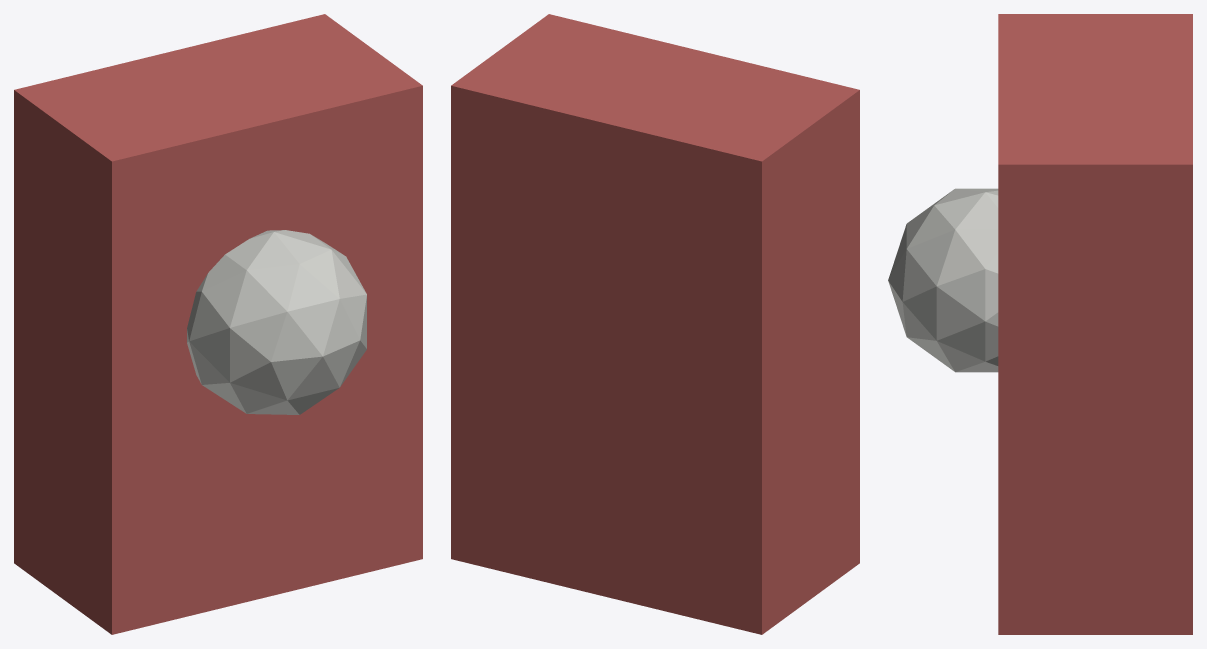
The model's file is SAF-003.glb.
3 views of the same model, side by side, from view 1: azimuth 30°, elevation 25°; view 2: azimuth 150°, elevation 25°; view 3: azimuth 270°, elevation 25° (orthographic).
Visible parts, largest first — view 1: 000_Alarm_case, 001_Alarm_switch; view 2: 000_Alarm_case; view 3: 000_Alarm_case, 001_Alarm_switch.
Boxes of the visible parts, x1=… form: 000_Alarm_case: x1=14, y1=14, x2=422, y2=634; 001_Alarm_switch: x1=187, y1=230, x2=366, y2=414; 000_Alarm_case: x1=451, y1=14, x2=859, y2=634; 000_Alarm_case: x1=998, y1=14, x2=1192, y2=634; 001_Alarm_switch: x1=888, y1=188, x2=998, y2=372.
Size of the model in its own units: 0.22 by 0.32 by 0.188.
